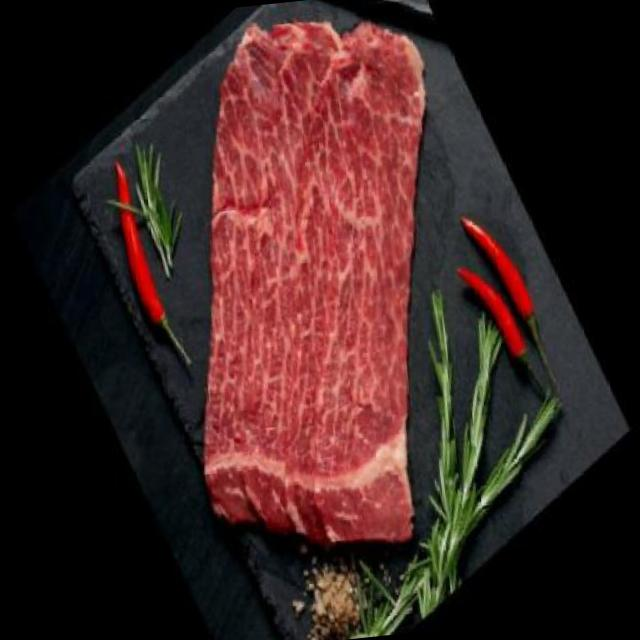beaf: (134, 0, 497, 594)
